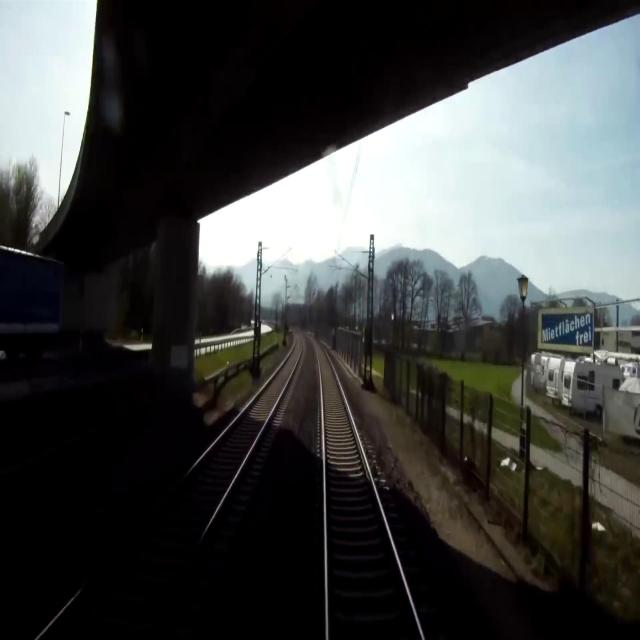rail-track: (40, 332, 300, 639), (313, 337, 420, 639)
